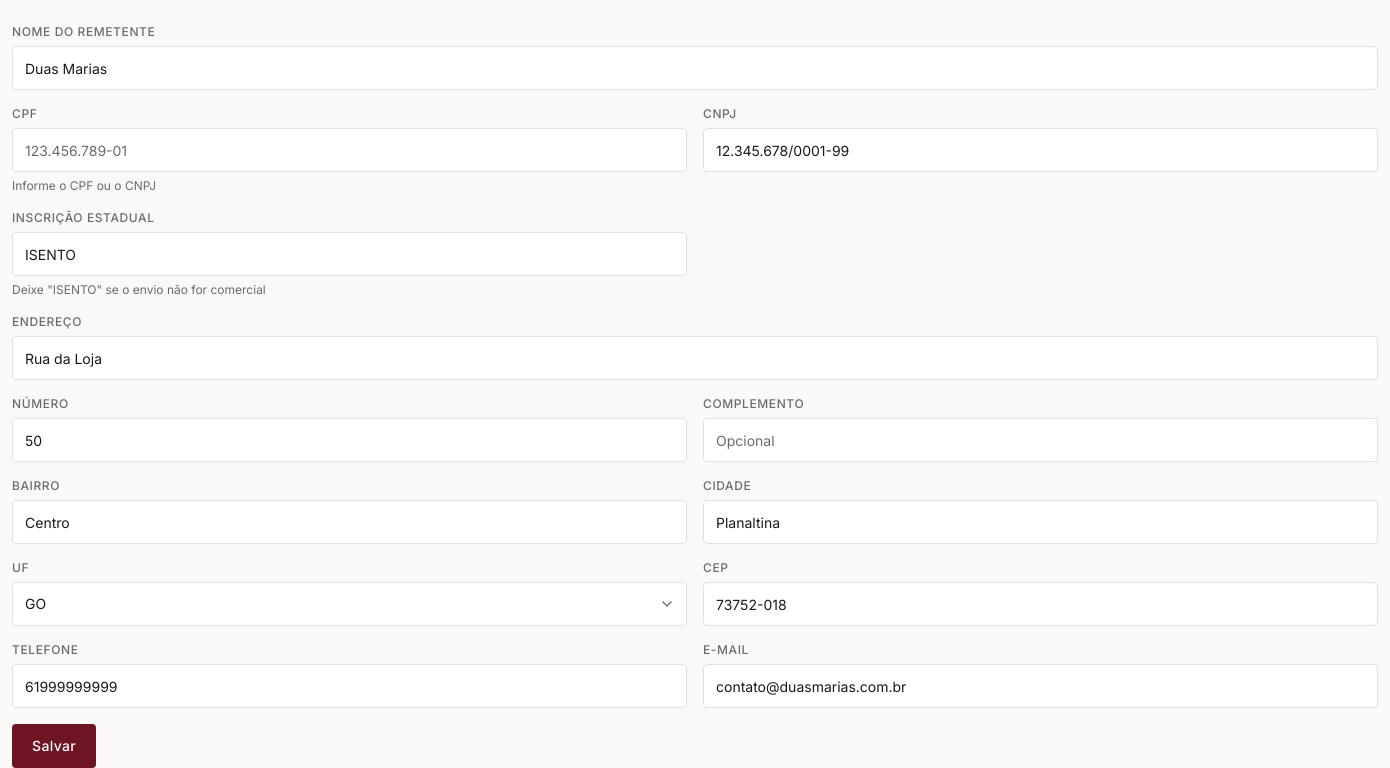
Scenario: AdminConfigRemetente › mostra o erro do backend quando salvar falha
The image size is (1390, 768).
(page scrolled)
Check: the field labelled "Nome do remetente" is shown, box 12,46 -> 1378,90
Click the button "Salvar".
click(54, 746)  # box 12,724 -> 96,767
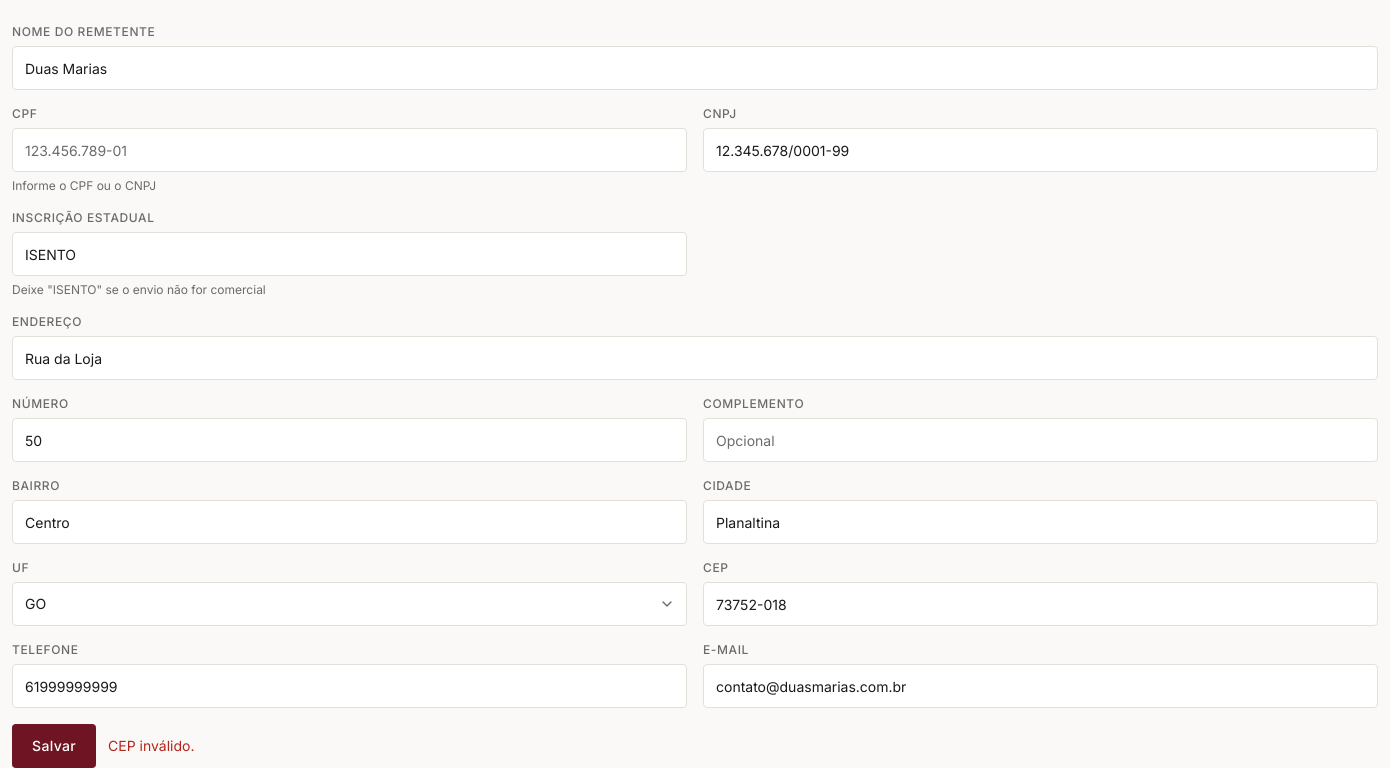
Check: the text "CEP inválido." is shown, box 108,736 -> 194,756
